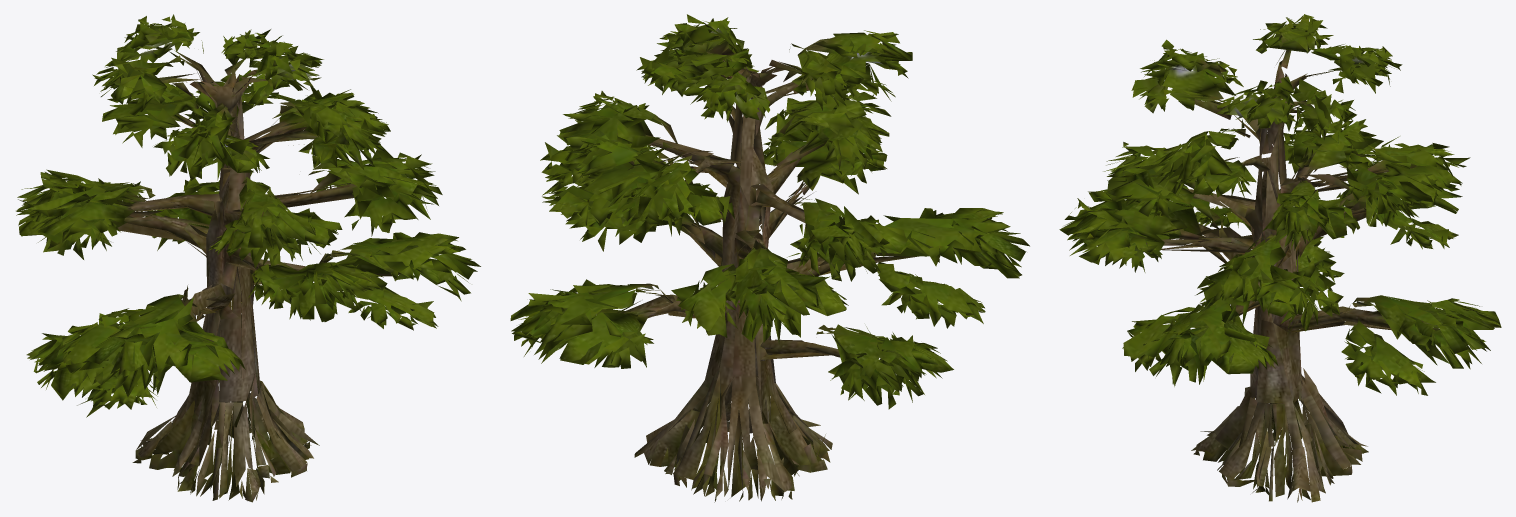
File: cypress_lo.glb
The picture shows the model from 3 angles, left to right: view 1: azimuth 30°, elevation 25°; view 2: azimuth 150°, elevation 25°; view 3: azimuth 270°, elevation 25°; orthographic projection. The views are drawn at different scales.
Parts seen in each view (by area): view 1: tripo_node_2b70825d-6fca-47bc-aac8-b77ad632a089; view 2: tripo_node_2b70825d-6fca-47bc-aac8-b77ad632a089; view 3: tripo_node_2b70825d-6fca-47bc-aac8-b77ad632a089.
Boxes of the visible parts, <box> form: tripo_node_2b70825d-6fca-47bc-aac8-b77ad632a089: <box>16,14,480,502</box>; tripo_node_2b70825d-6fca-47bc-aac8-b77ad632a089: <box>510,14,1029,502</box>; tripo_node_2b70825d-6fca-47bc-aac8-b77ad632a089: <box>1059,14,1501,502</box>.
Bounding box in the file's own units: 22.31 × 22.17 × 21.72.
Materials: 1 (1 with a texture image).
